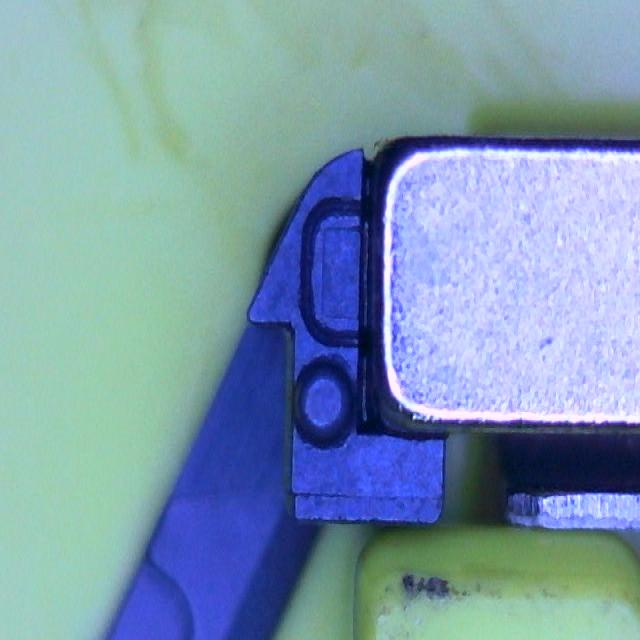lacking: (298, 196, 368, 350)
